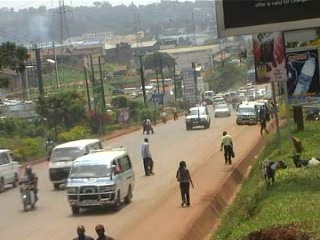Car: (183, 103, 212, 134), (212, 101, 231, 118)
Motorcycle: (15, 163, 41, 214), (229, 96, 236, 111)
